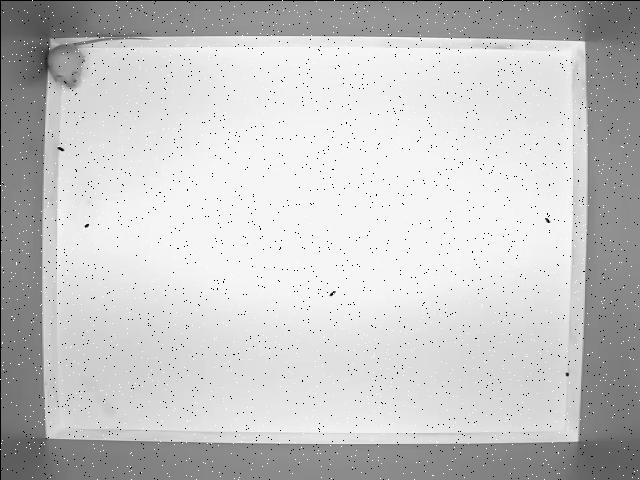Tikus: (44, 33, 149, 91)
